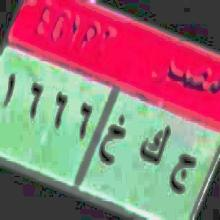1: (2, 70, 20, 108)
6: (25, 71, 47, 123), (48, 84, 69, 136), (76, 97, 94, 142)
jeem: (171, 145, 197, 206)
kaaf: (139, 119, 170, 168)
khaa: (98, 111, 129, 177)
